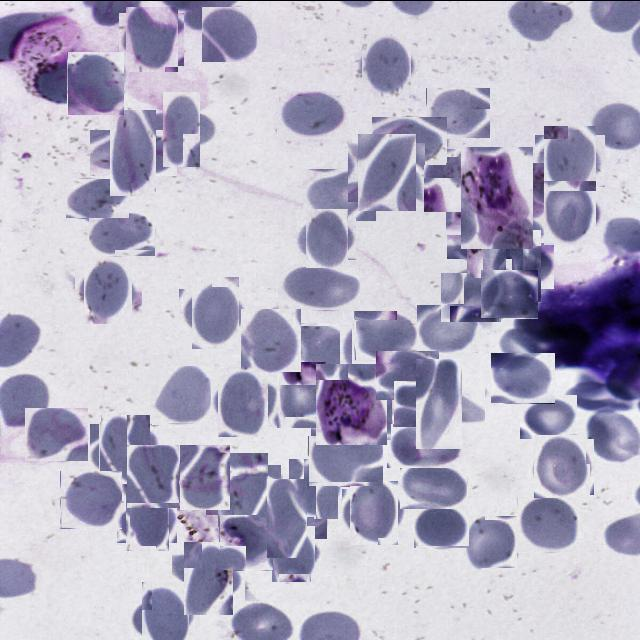red blood cell: (352, 137, 420, 205), (406, 369, 474, 437), (100, 119, 166, 185), (178, 546, 240, 608), (212, 458, 274, 520), (308, 435, 383, 486), (303, 168, 376, 220), (241, 308, 301, 371), (214, 371, 274, 432), (94, 418, 155, 478), (67, 51, 124, 115), (278, 266, 360, 310), (540, 130, 600, 190), (185, 282, 245, 342), (532, 436, 592, 496), (372, 116, 447, 164), (456, 208, 516, 268), (257, 488, 317, 548), (60, 470, 122, 528), (517, 496, 581, 552), (150, 363, 210, 422), (388, 423, 468, 467), (122, 9, 181, 68), (488, 236, 548, 294), (24, 407, 88, 461), (278, 90, 348, 139), (542, 183, 600, 241), (124, 447, 182, 505), (272, 364, 330, 422), (490, 352, 555, 403), (80, 261, 137, 319), (426, 87, 490, 138), (180, 444, 230, 509), (358, 36, 414, 94), (400, 460, 467, 508), (354, 310, 418, 360), (346, 484, 403, 540), (153, 100, 210, 156), (288, 322, 352, 371), (202, 6, 258, 62), (420, 152, 476, 208), (135, 587, 194, 640), (376, 350, 439, 399), (286, 461, 341, 516), (219, 514, 273, 570), (586, 407, 640, 463), (88, 212, 155, 256), (417, 304, 478, 352), (444, 270, 498, 324), (465, 515, 518, 569), (480, 269, 538, 318), (121, 494, 173, 546), (301, 212, 352, 263), (520, 393, 577, 438), (65, 178, 129, 218), (268, 528, 318, 578), (413, 506, 469, 548)
trophozoite: (454, 154, 542, 242), (313, 365, 390, 441)
